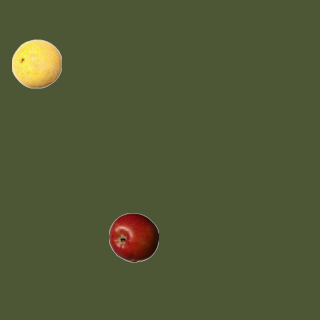Apple Braeburn: (108, 212, 158, 262)
Cantaloupe 1: (11, 38, 61, 88)
